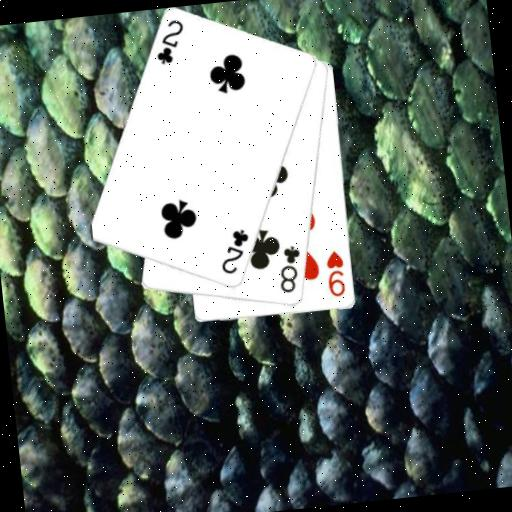2C: (215, 226, 255, 277), (150, 17, 190, 68)
8C: (273, 242, 307, 296)
9H: (323, 248, 350, 300)
